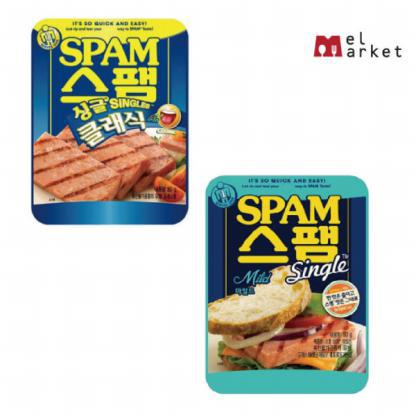spam: (207, 165, 382, 396), (30, 19, 190, 220)
